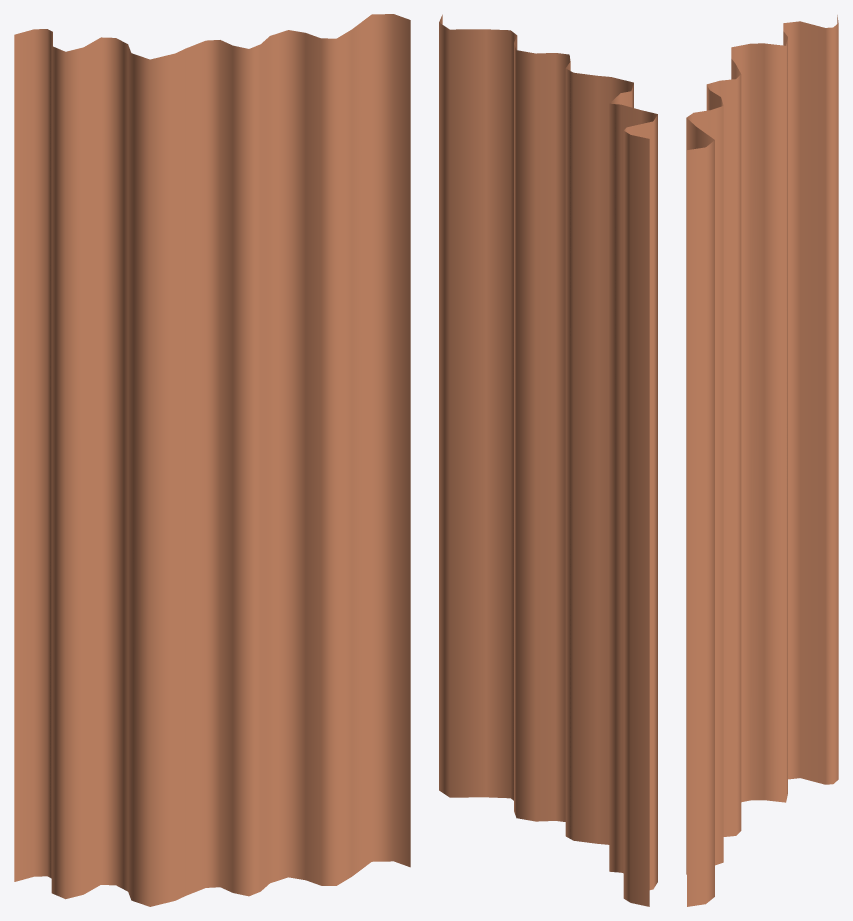
The model's file is OT_009_orange_curtains.glb.
The picture shows the model from 3 angles, left to right: view 1: azimuth 30°, elevation 25°; view 2: azimuth 150°, elevation 25°; view 3: azimuth 270°, elevation 25°; orthographic projection. The views are drawn at different scales.
Visible parts, largest first — view 1: curtains_front, curtains_back; view 2: curtains_front, curtains_back; view 3: curtains_front, curtains_back.
Boxes of the visible parts, x1,y1,x2,y2 form: curtains_front: [14, 14, 410, 906]; curtains_back: [14, 14, 410, 904]; curtains_front: [439, 14, 657, 906]; curtains_back: [439, 20, 657, 905]; curtains_front: [686, 15, 838, 906]; curtains_back: [686, 21, 838, 905].
Size of the model in its own units: 1.48 by 3.86 by 0.6997.
